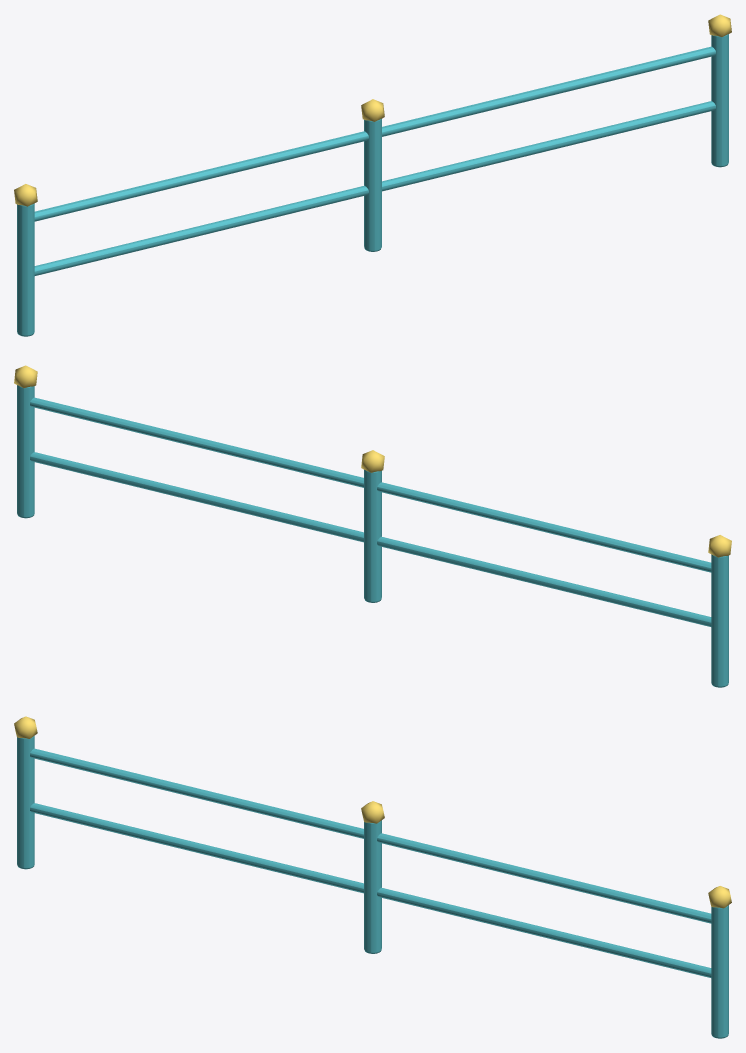
Rendered from promenade_rail.fbx.
The picture shows the model from 3 angles, top to bottom: view 1: azimuth 30°, elevation 25°; view 2: azimuth 150°, elevation 25°; view 3: azimuth 330°, elevation 25°; orthographic projection.
Parts seen in each view (by area): view 1: Visual; view 2: Visual; view 3: Visual.
Part boxes in pixels (<box>): Visual: <box>14,14,731,336</box>; Visual: <box>14,365,731,687</box>; Visual: <box>14,716,731,1038</box>.
Size of what is drawn, in the model's own units: 618 by 124 by 17.01.
